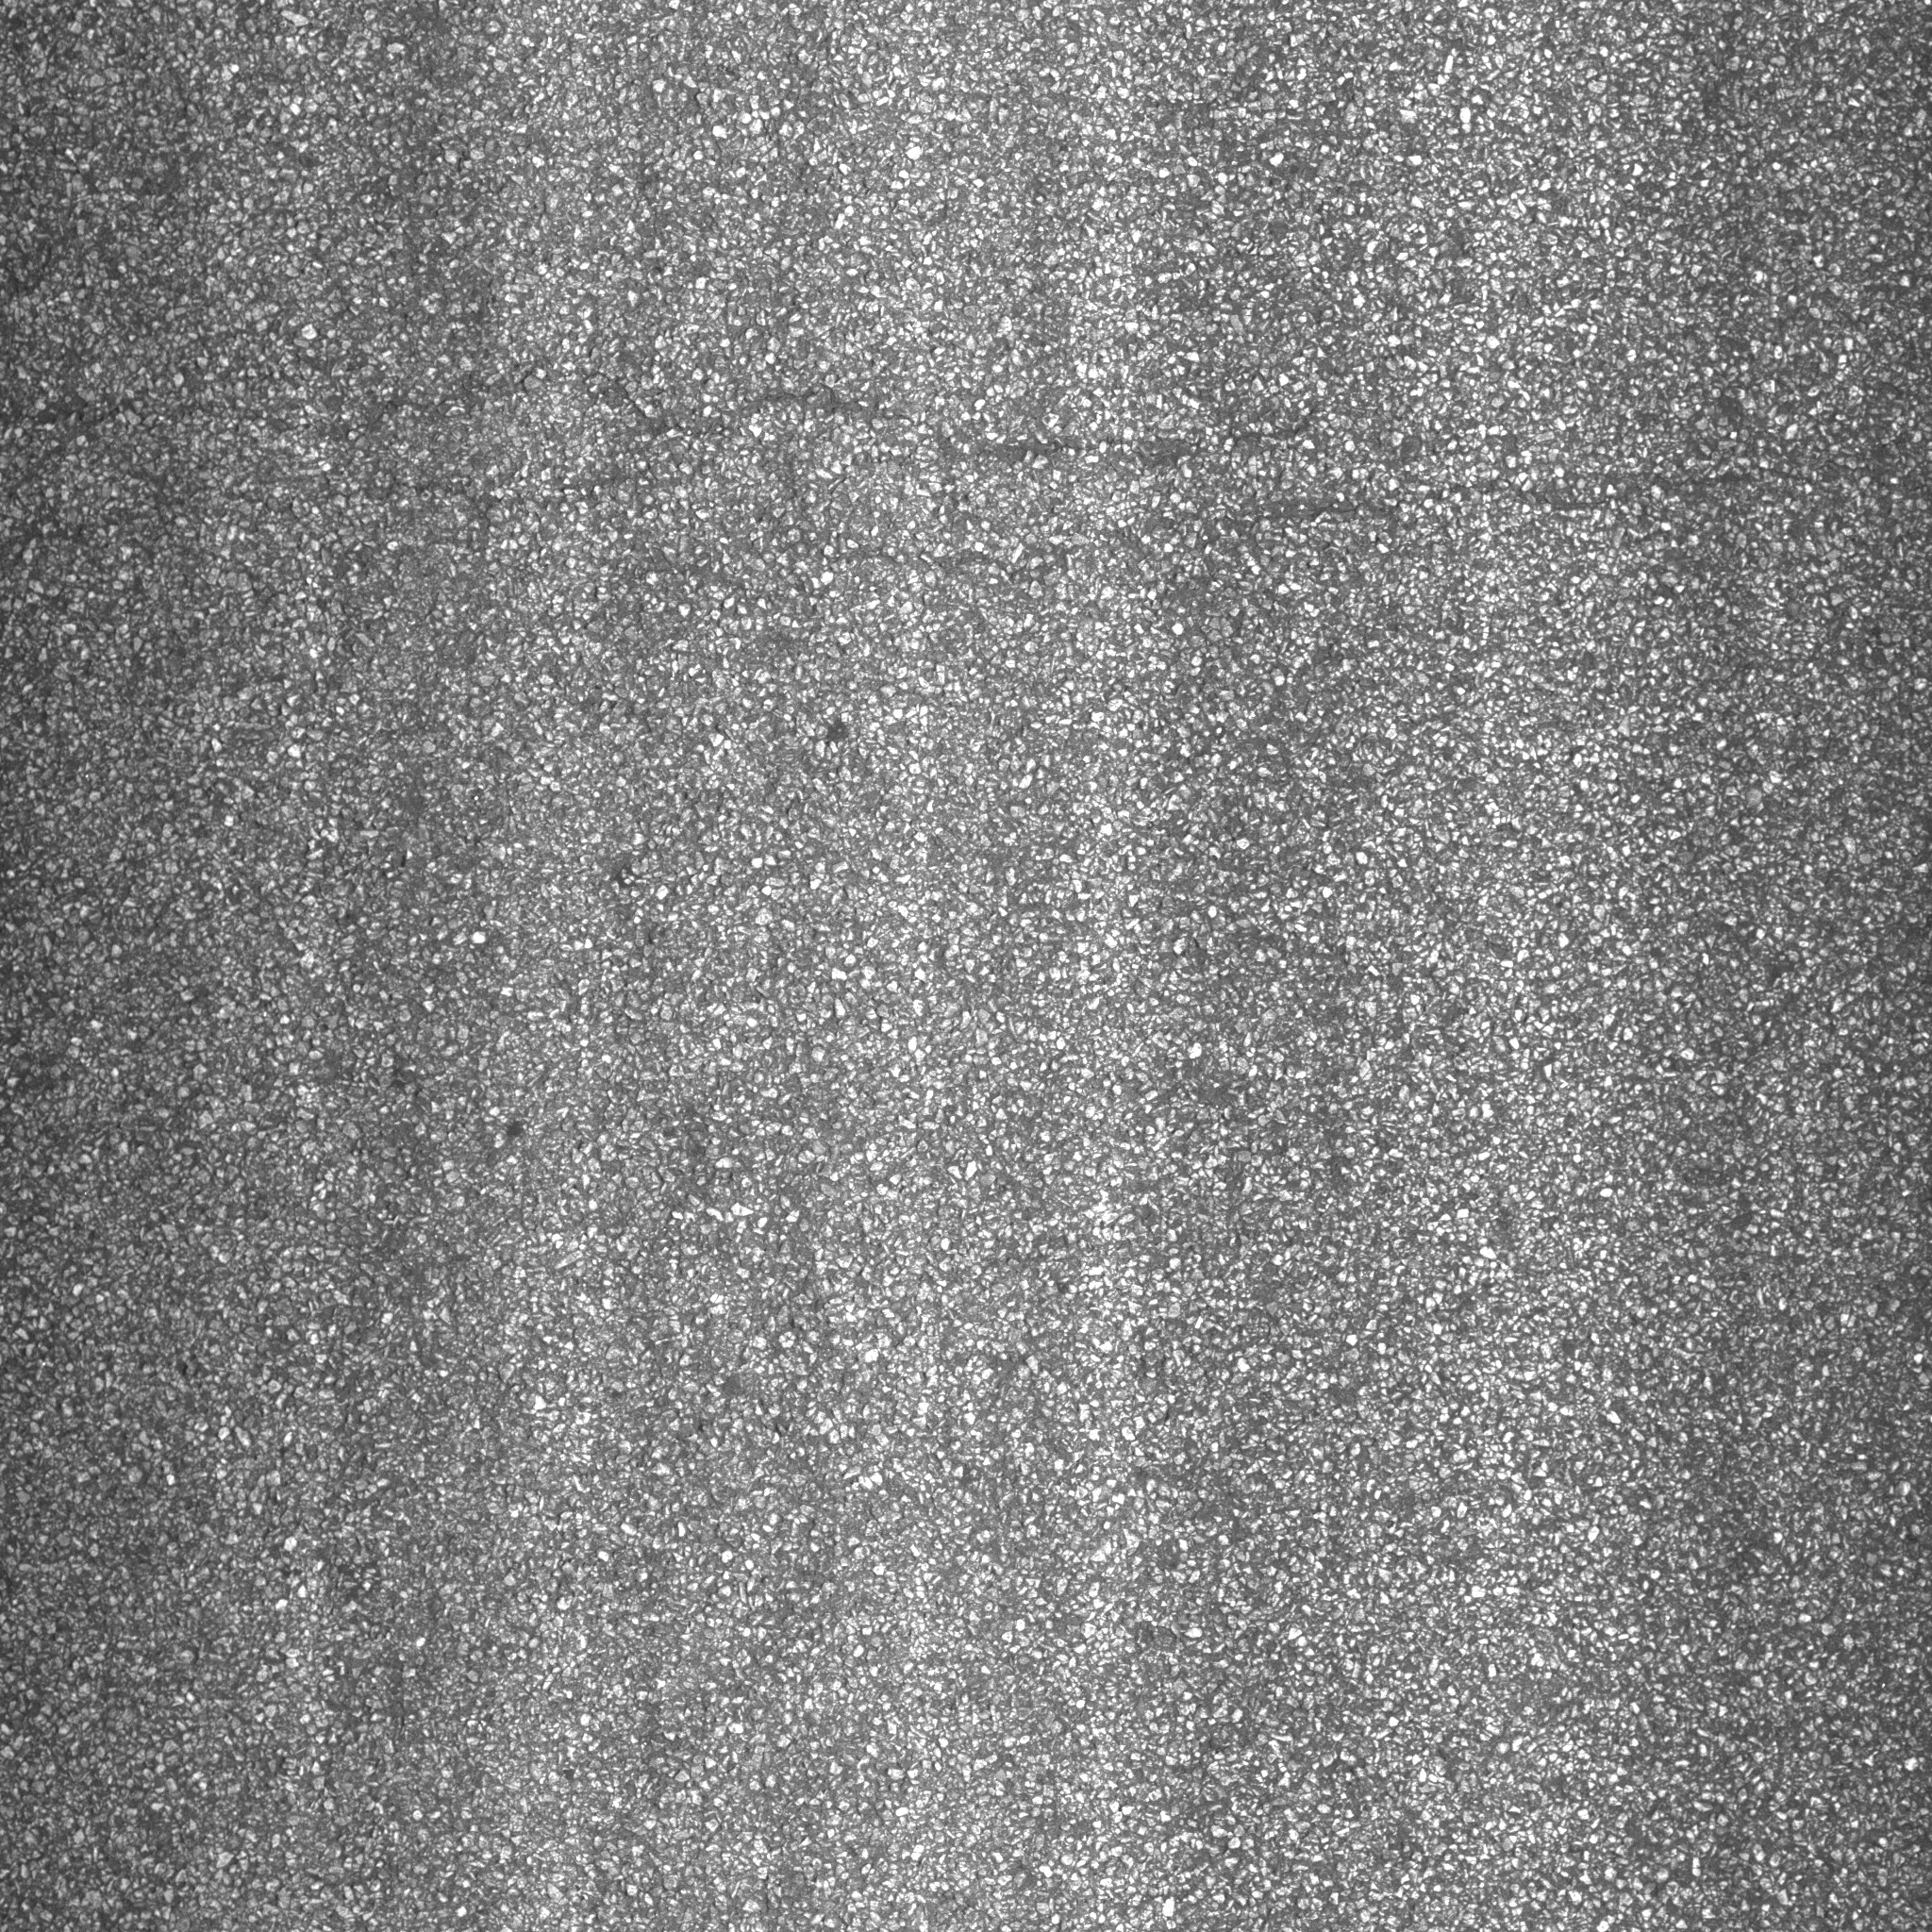transverse: (32, 366, 1826, 584)
